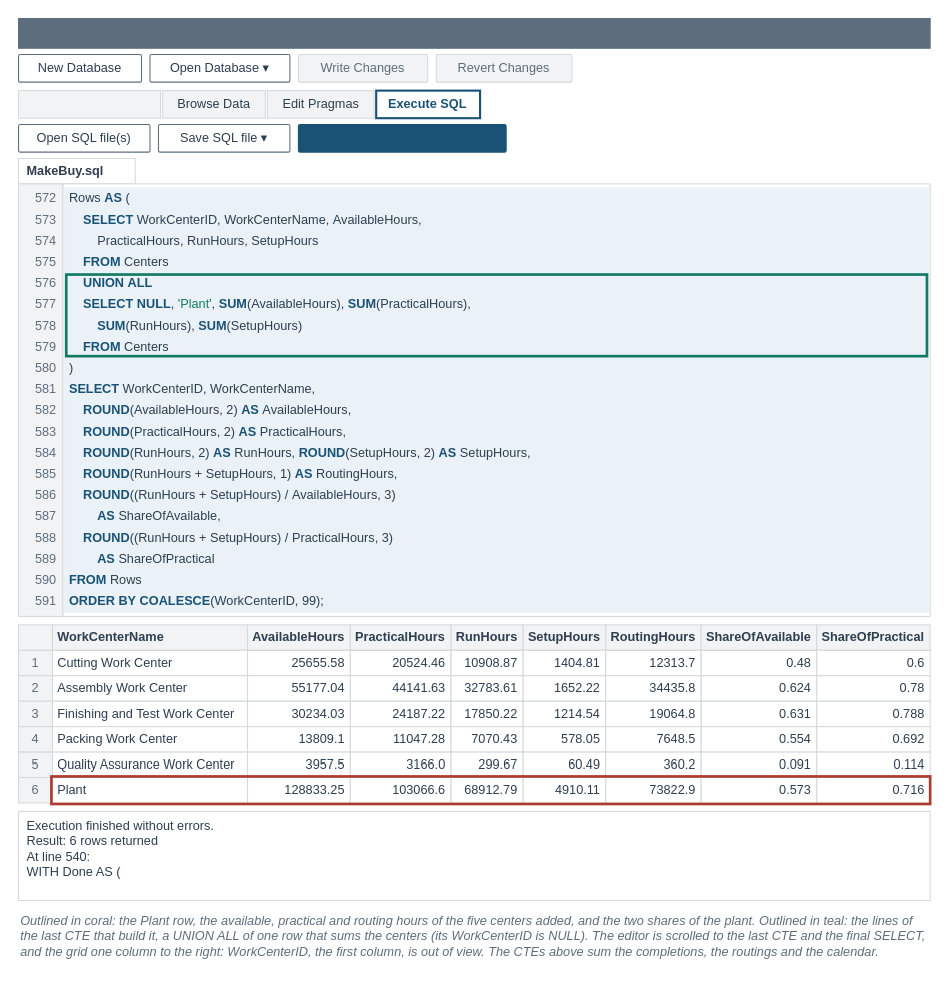
This 950x984 diagram has some shape labels left out. Each missing label, with the centre of its shape:
Database Structure: point 89,104
DB Browser for SQLite - C:\Users\you\Documents\CharlesRiver_Capstone.sqlite: point 473,32
▶ Execute all/selected SQL: point 401,137
